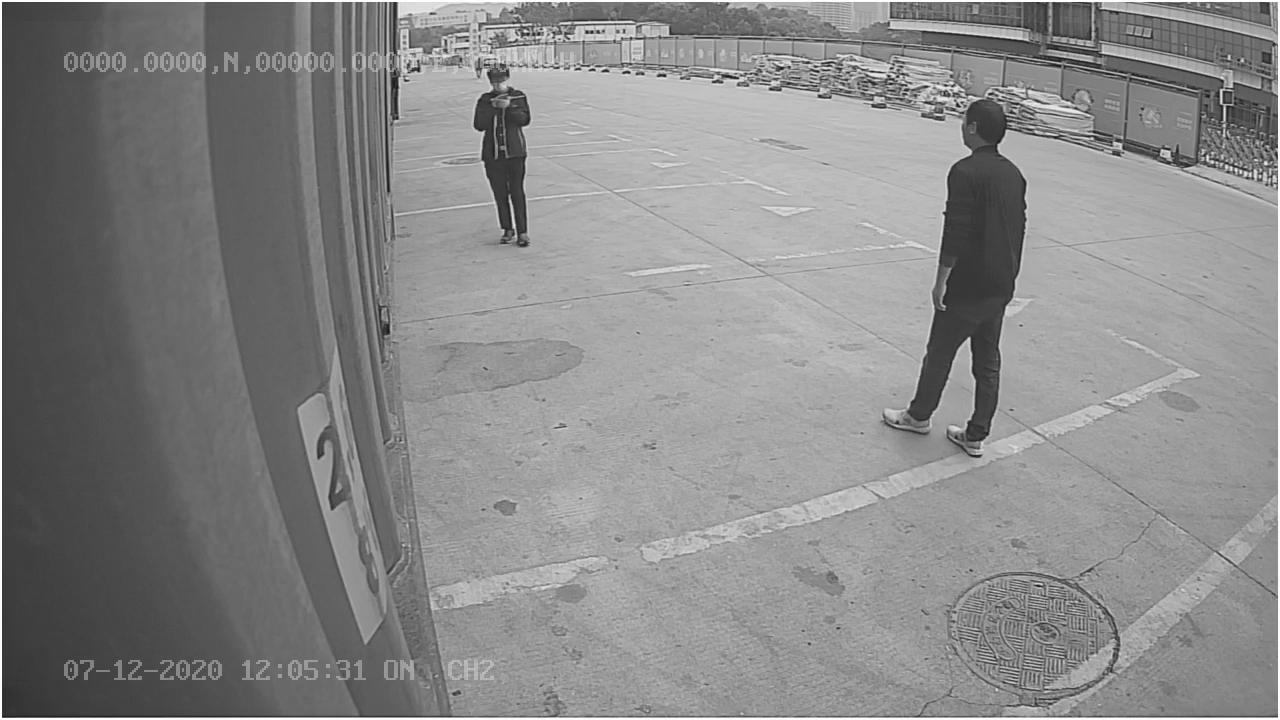person: (878, 93, 1026, 458)
